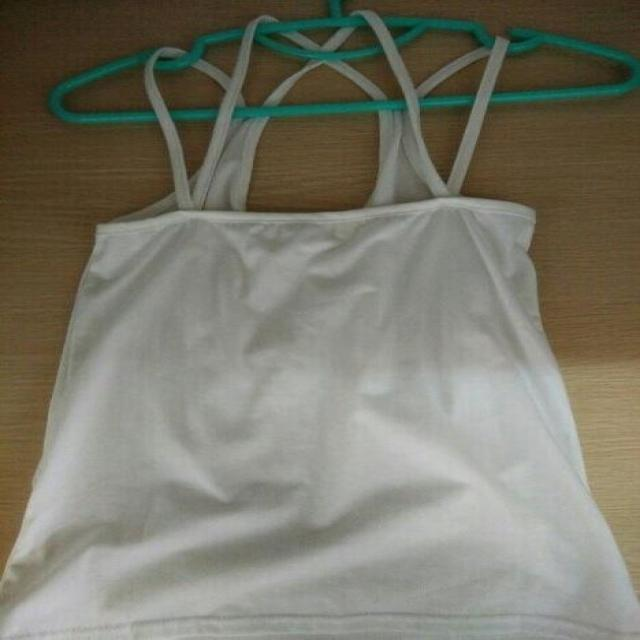vest: (0, 41, 637, 640)
